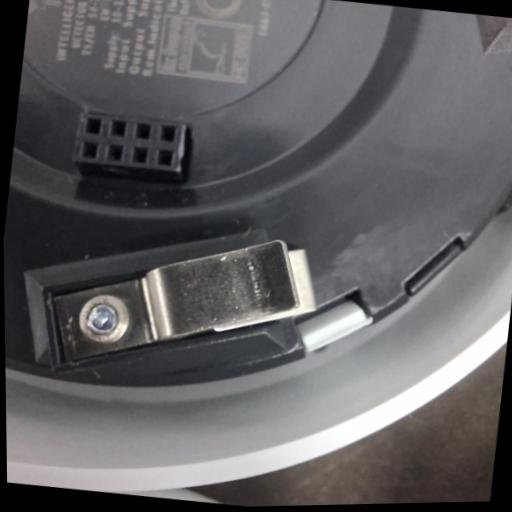yayli: (28, 206, 329, 399)
